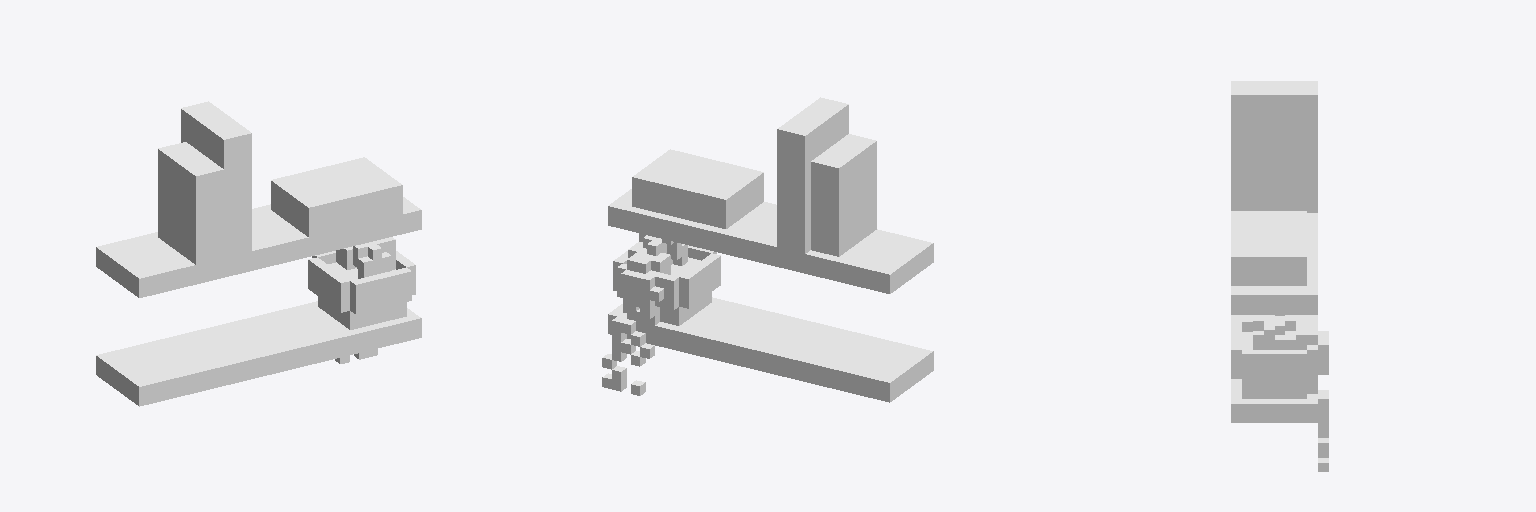
The model's file is shelf1.obj.
The picture shows the model from 3 angles: view 1: azimuth 30°, elevation 25°; view 2: azimuth 150°, elevation 25°; view 3: azimuth 270°, elevation 25°; orthographic projection.
Visible parts, largest first — view 1: object 1; view 2: object 1; view 3: object 1.
Part boxes in pixels (bbox=[...]): object 1: bbox=[96, 101, 421, 406]; object 1: bbox=[602, 97, 933, 402]; object 1: bbox=[1231, 81, 1328, 471].
Bounding box in the file's own units: 3 × 3 × 0.9.